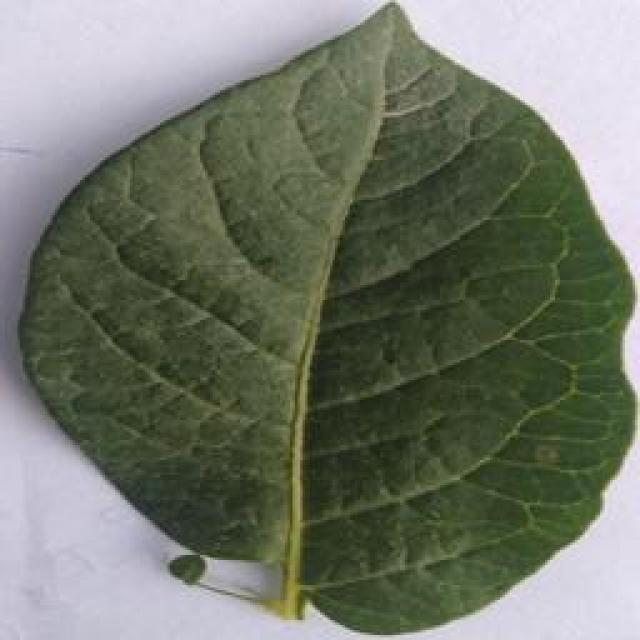Potato_Healthy: (5, 7, 636, 633)
